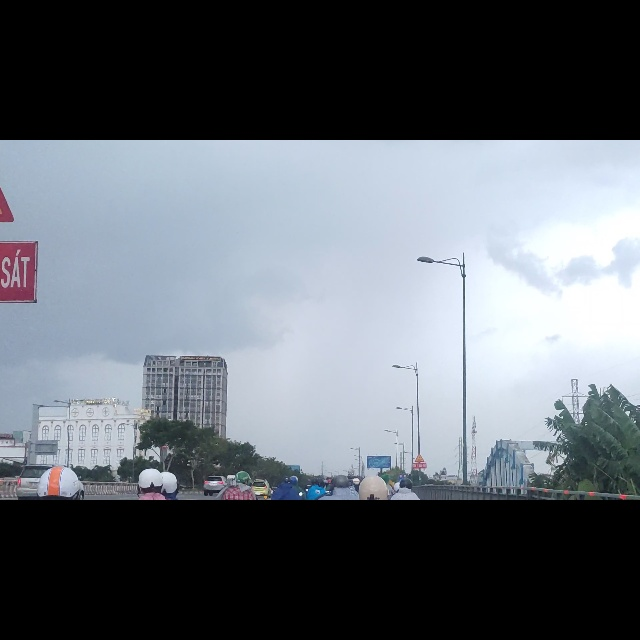bien_cam: (414, 556, 425, 573)
